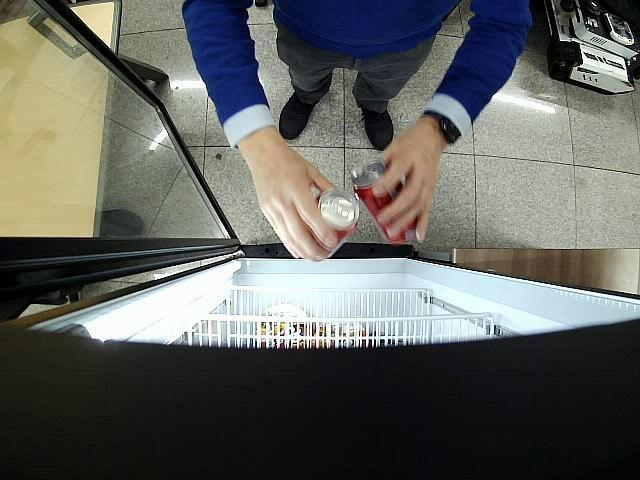11_cocaColaZero: (350, 159, 418, 244), (318, 189, 360, 257)
